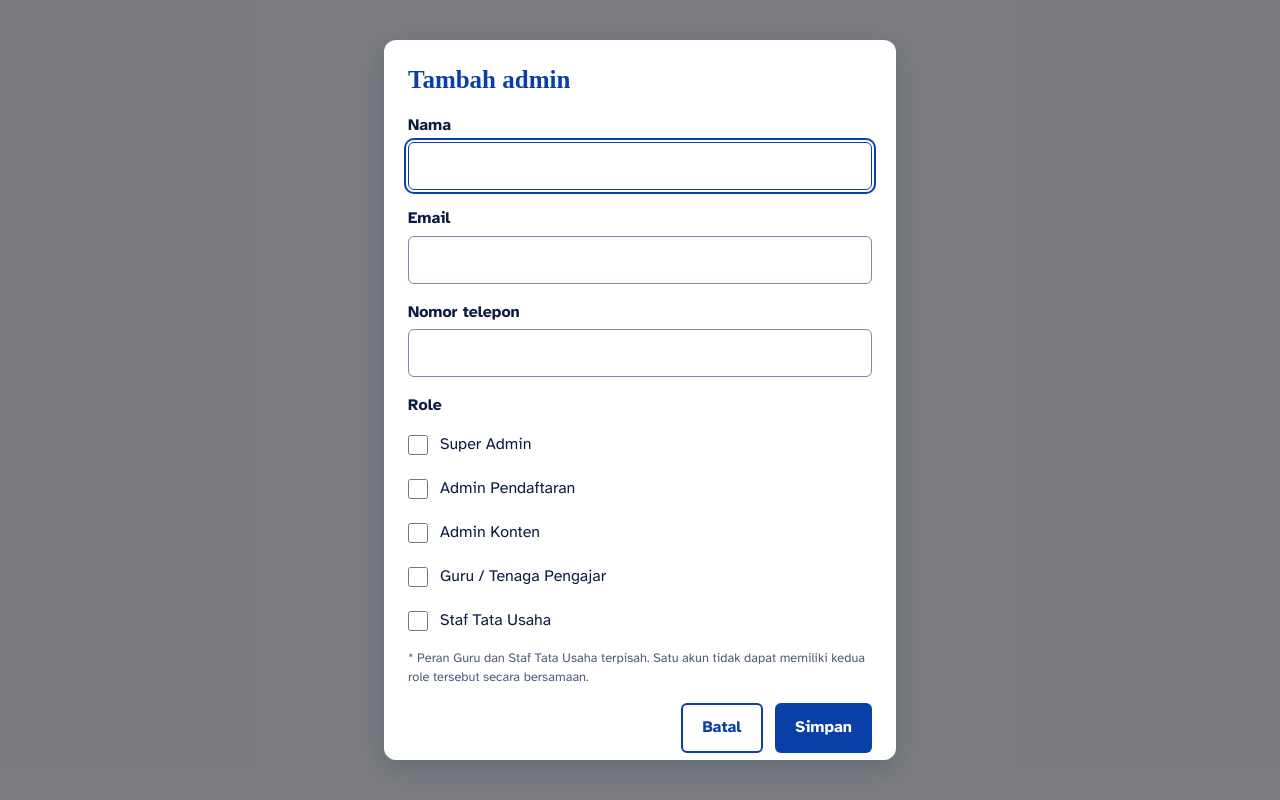
Test case: UserFormModal — tambah admin › kolom kosong: pesan galat per kolom dan tidak ada permintaan
Click the button "Simpan": (824, 728) [775,703,872,753]
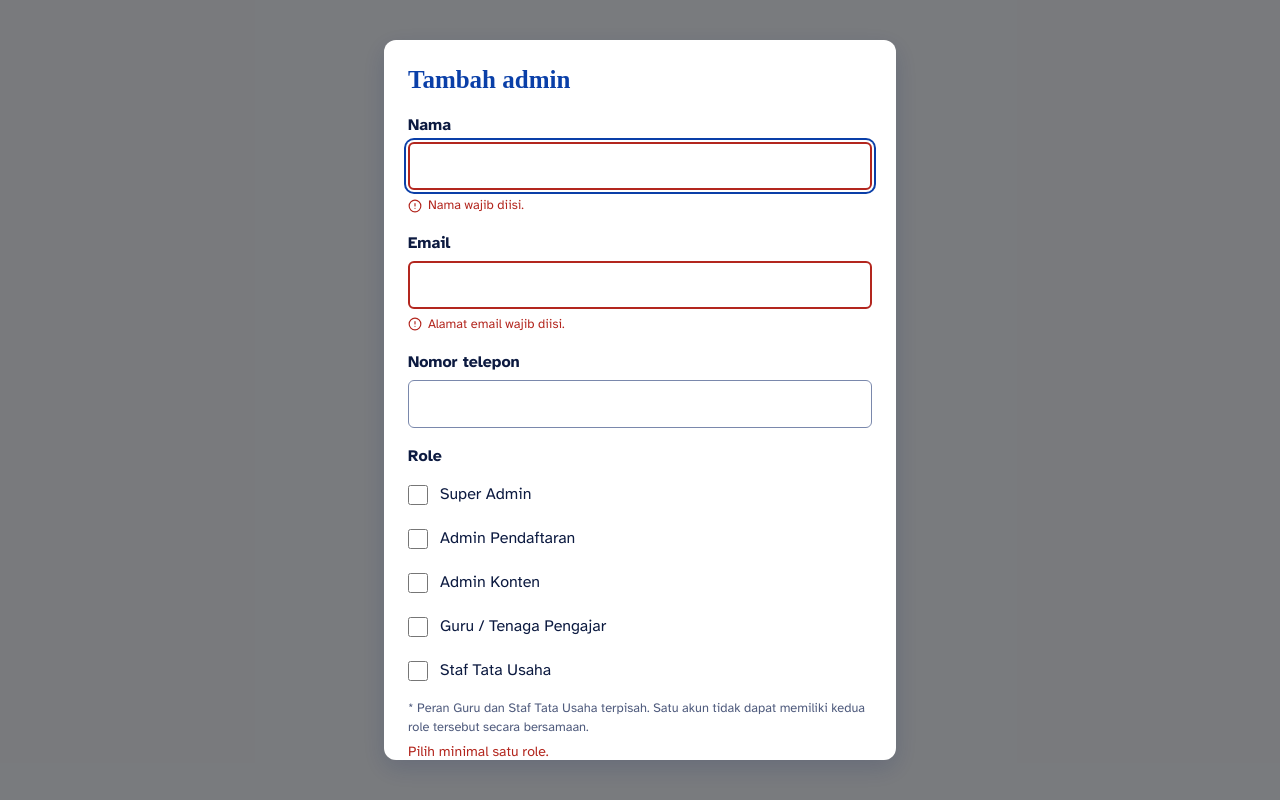
Now the text "Nama wajib diisi." is shown, box [428,196,524,215]
Now the text "Alamat email wajib diisi." is shown, box [428,315,565,334]
Now the text "Pilih minimal satu role." is shown, box [408,743,549,760]
